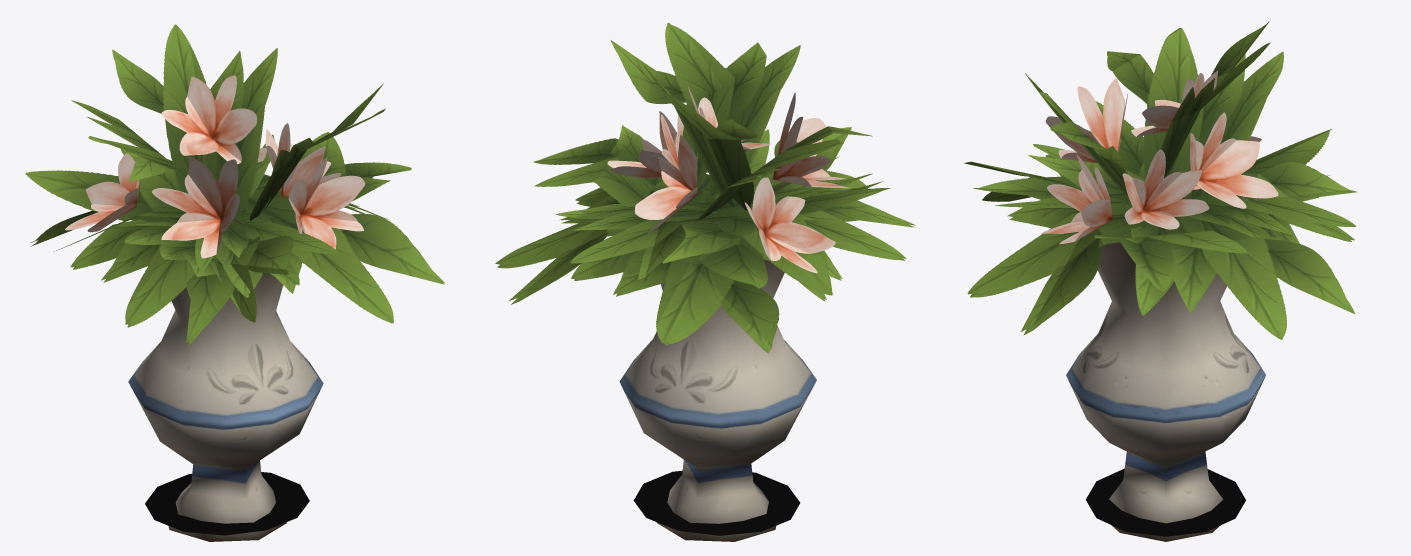
The model's file is jj_ty_huaping01.FBX.
3 views of the same model, side by side, from view 1: azimuth 30°, elevation 25°; view 2: azimuth 150°, elevation 25°; view 3: azimuth 270°, elevation 25° (orthographic). The views are drawn at different scales.
Parts seen in each view (by area): view 1: jj_ty_huaping01, Cylinder001; view 2: jj_ty_huaping01, Cylinder001; view 3: jj_ty_huaping01, Cylinder001.
Boxes of the visible parts, x1=… form: jj_ty_huaping01: x1=25, y1=24, x2=444, y2=541; Cylinder001: x1=145, y1=472, x2=309, y2=535; jj_ty_huaping01: x1=495, y1=22, x2=915, y2=541; Cylinder001: x1=633, y1=470, x2=800, y2=535; jj_ty_huaping01: x1=964, y1=21, x2=1357, y2=541; Cylinder001: x1=1085, y1=468, x2=1245, y2=536.
Bounding box in the file's own units: 44.31 × 56.51 × 46.76.
